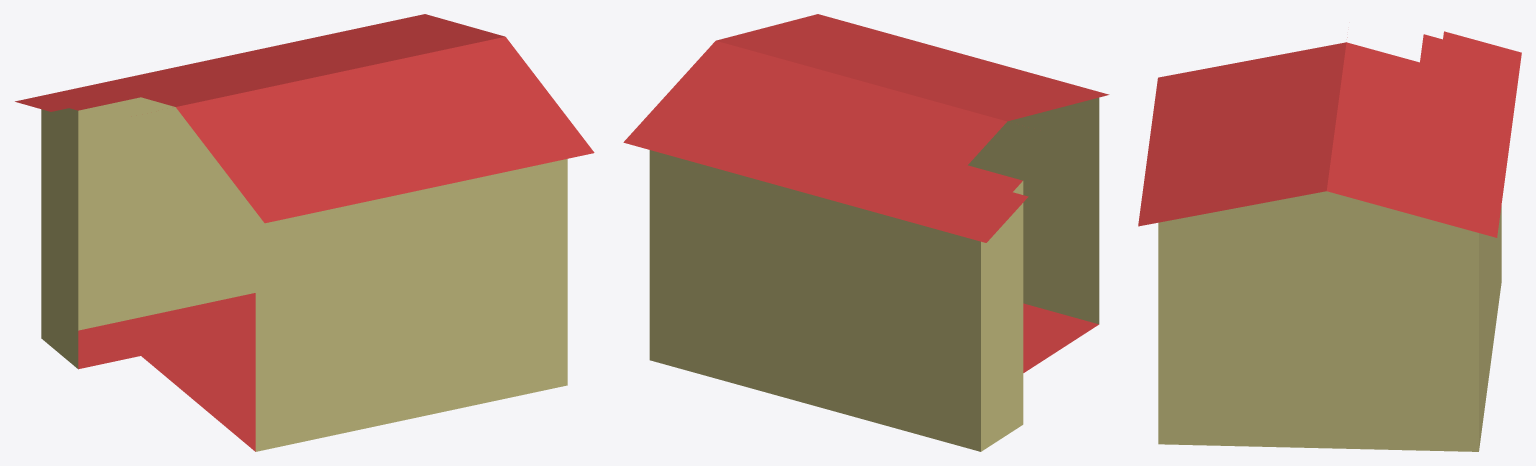
The picture shows the model from 3 angles, left to right: view 1: azimuth 30°, elevation 25°; view 2: azimuth 150°, elevation 25°; view 3: azimuth 270°, elevation 25°; orthographic projection. The views are drawn at different scales.
Bounding box in the file's own units: 11.49 × 9.95 × 7.59.
